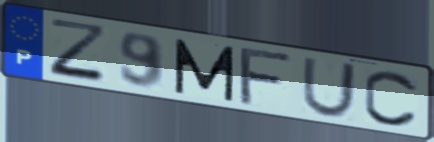9: (117, 31, 166, 91)
C: (361, 68, 421, 129)
F: (236, 46, 297, 108)
M: (172, 36, 238, 104)
U: (299, 55, 359, 120)
Z: (47, 16, 110, 87)
